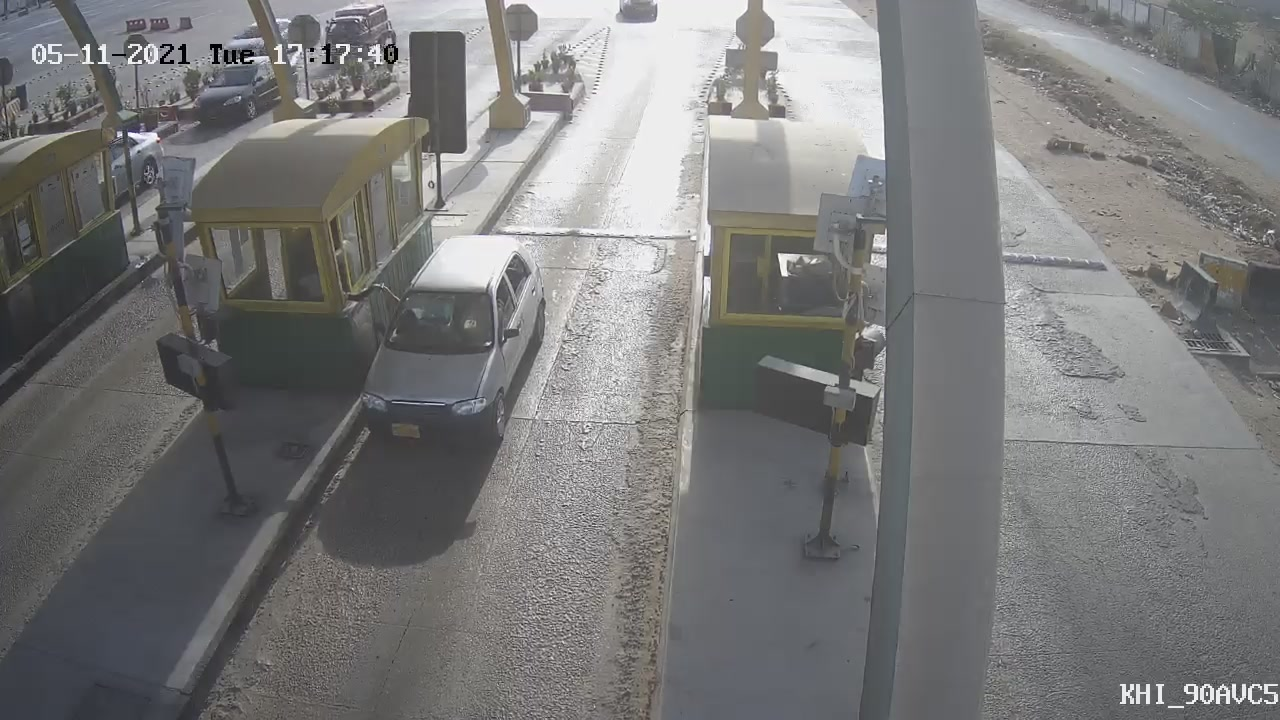F1: (329, 217, 565, 474)
